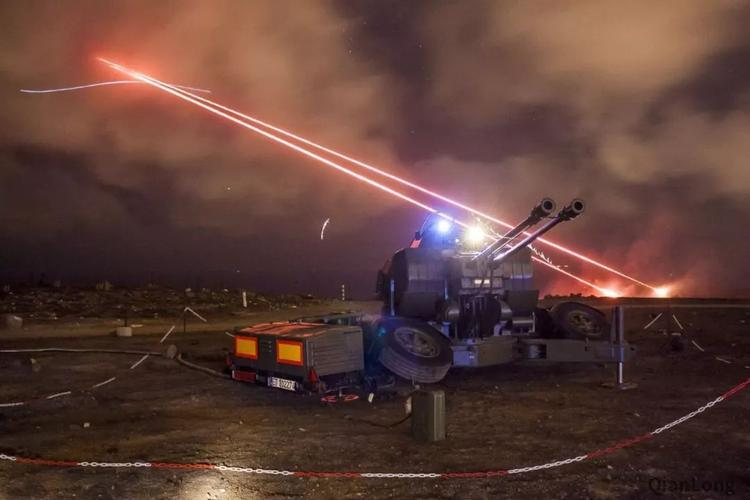MIL_SPG: (227, 199, 633, 393)
